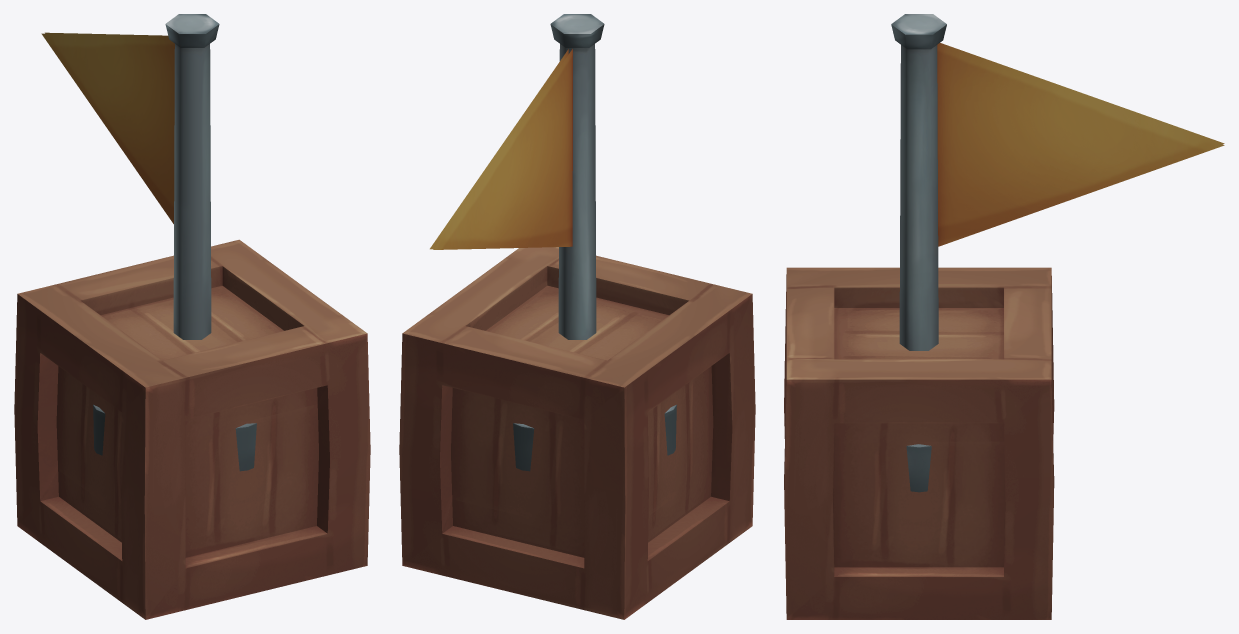
The model's file is Tanks_Props.fbx.
3 views of the same model, side by side, from view 1: azimuth 30°, elevation 25°; view 2: azimuth 150°, elevation 25°; view 3: azimuth 270°, elevation 25° (orthographic). The views are drawn at different scales.
Parts seen in each view (by area): view 1: Crate, Flag, Landmine; view 2: Crate, Flag, Landmine; view 3: Crate, Flag, Landmine.
Part boxes in pixels (left/top/right/bottom): Crate: left=14, top=239, right=370, bottom=619; Flag: left=41, top=14, right=219, bottom=339; Landmine: left=93, top=404, right=256, bottom=471; Crate: left=399, top=247, right=755, bottom=619; Flag: left=430, top=14, right=604, bottom=339; Landmine: left=513, top=404, right=676, bottom=471; Crate: left=784, top=267, right=1054, bottom=619; Flag: left=891, top=14, right=1224, bottom=350; Landmine: left=906, top=444, right=931, bottom=492.
Size of the model in its own units: 0.4103 by 0.9046 by 0.6695.
